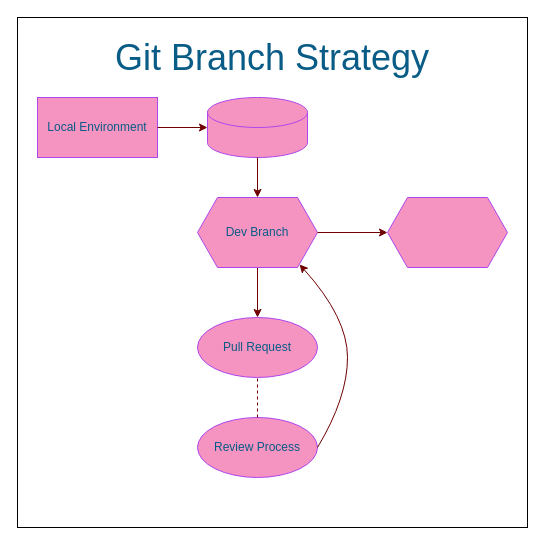
Image size: 545x545. Some labels were removed from this diagram. The box of each missing label's shape, as (x1, y1, x2, y2) in pixels:
Git Bash: (206, 96, 308, 158)
Master Branch: (386, 196, 508, 268)
